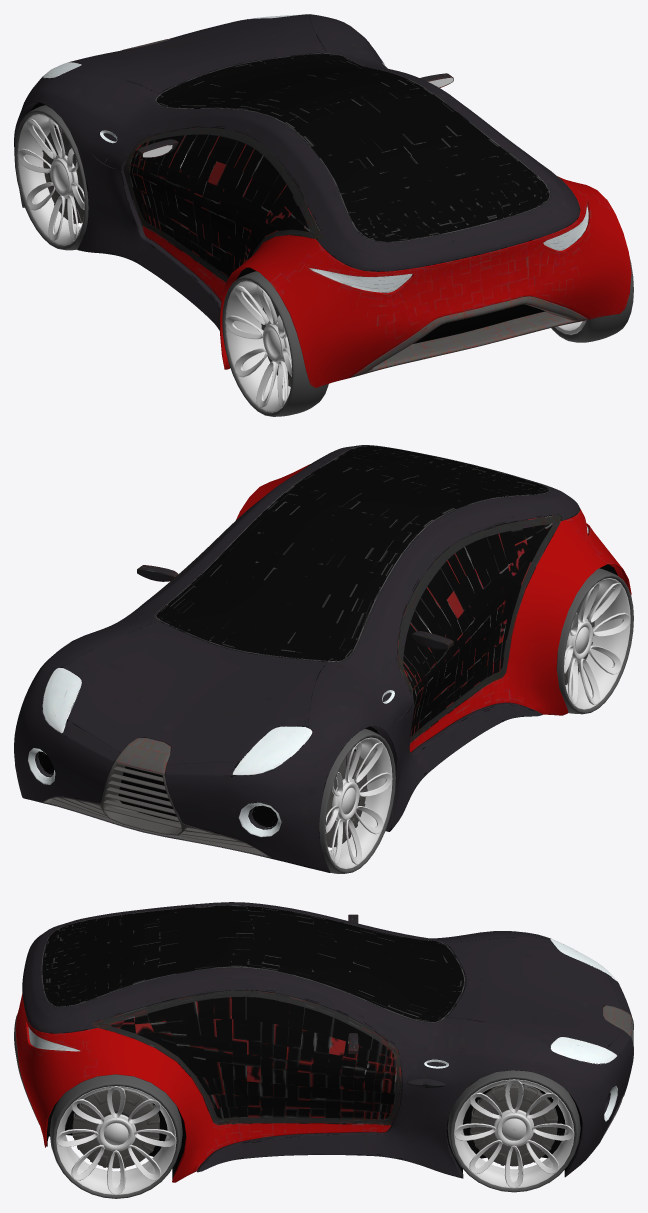
Rendered from concept_styled_sports_car_1_83af864a.glb.
3 views of the same model, one above another, from view 1: azimuth 30°, elevation 25°; view 2: azimuth 150°, elevation 25°; view 3: azimuth 270°, elevation 25° (orthographic). The views are drawn at different scales.
Visible parts, largest first — view 1: Concept styled sports car 1.001, main body part 2, window glass/sealing, left door, front alloys, rear alloys, front tyres, tail lights, rear tyres, sports concept car 3.005, rear chasis; view 2: Concept styled sports car 1.001, window glass/sealing, left door, main body part 2, front alloys, rear alloys, headlights, front main grill, front grill bars, front tyres, rear tyres, Concept styled sports car 1.002 (+2 smaller); view 3: Concept styled sports car 1.001, window glass/sealing, right door, main body part 2, front alloys, rear alloys, rear chasis, front chasis, front tyres, rear tyres, car base, headlights (+1 smaller).
Boxes of the visible parts, box(x1,y1,x2,y2) form: Concept styled sports car 1.001: box(14, 14, 580, 330); main body part 2: box(122, 38, 631, 388); window glass/sealing: box(155, 53, 550, 242); left door: box(124, 127, 323, 282); front alloys: box(225, 280, 586, 412); rear alloys: box(17, 114, 84, 245); front tyres: box(222, 256, 633, 416); tail lights: box(309, 205, 588, 292); rear tyres: box(14, 105, 88, 250); sports concept car 3.005: box(413, 304, 544, 343); rear chasis: box(42, 127, 84, 223); Concept styled sports car 1.001: box(14, 445, 579, 872); window glass/sealing: box(155, 446, 550, 661); left door: box(397, 514, 561, 743); main body part 2: box(115, 464, 631, 774); front alloys: box(564, 578, 630, 709); rear alloys: box(325, 737, 392, 869); headlights: box(42, 667, 312, 775); front main grill: box(42, 762, 271, 858); front grill bars: box(52, 766, 253, 847); front tyres: box(557, 568, 633, 714); rear tyres: box(15, 729, 395, 873); Concept styled sports car 1.002: box(28, 748, 281, 837); Concept styled sports car 1.001: box(22, 902, 633, 1178); window glass/sealing: box(41, 905, 464, 1022); right door: box(92, 990, 401, 1125); main body part 2: box(14, 992, 631, 1182); front alloys: box(56, 1086, 176, 1195); rear alloys: box(454, 1079, 574, 1188); rear chasis: box(470, 1083, 557, 1166); front chasis: box(72, 1089, 159, 1168); front tyres: box(49, 1074, 182, 1198); rear tyres: box(447, 1070, 580, 1192); car base: box(46, 1084, 582, 1179); headlights: box(550, 939, 617, 1064).
Bounding box in the file's own units: 1.16 × 0.7008 × 2.03.
35 materials, 35 textured.
